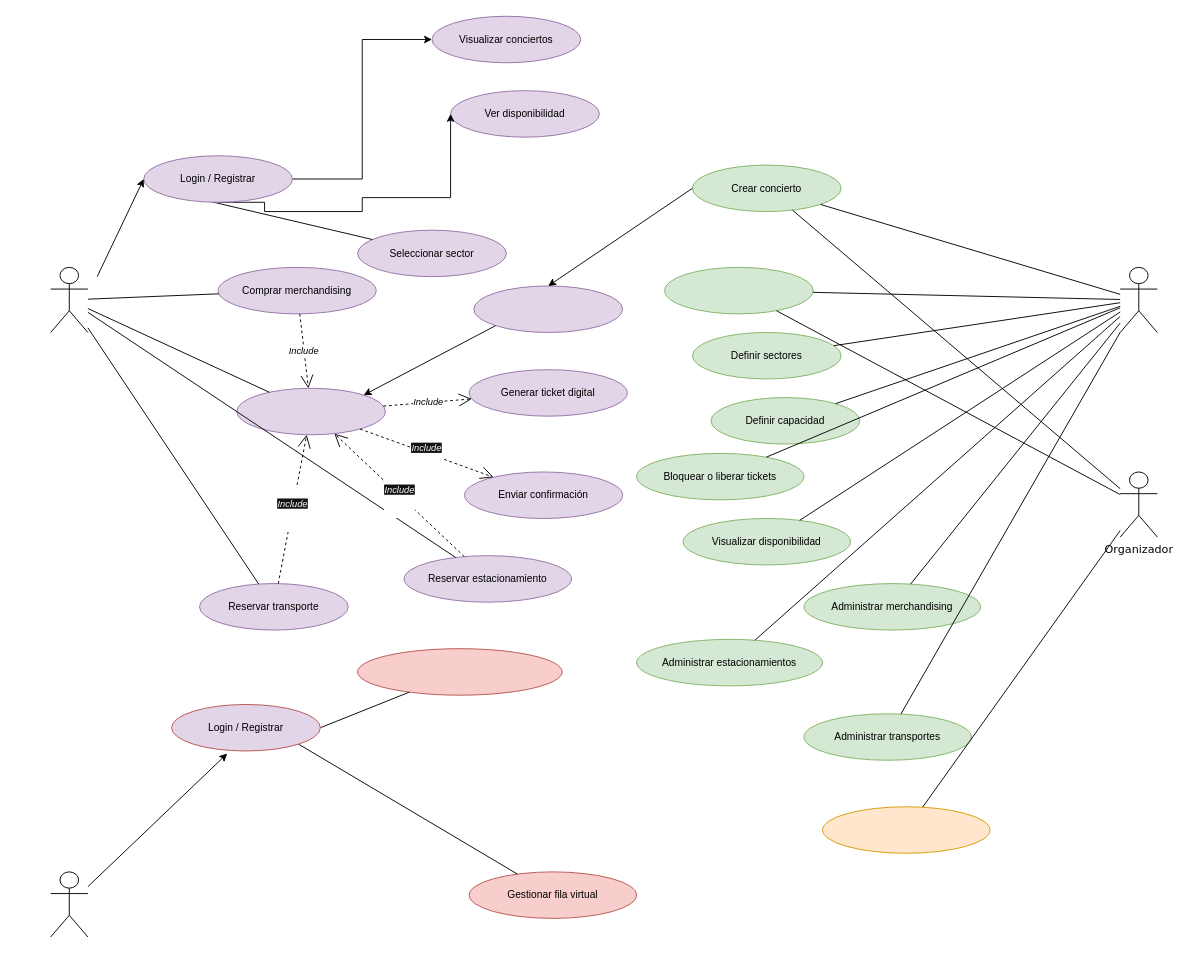
Image size: 1194x973. Some labels were removed from this diagram. Here are the shapes that lost their labels. From the top down, the centre of each, then its label:
At pixel 69 299: "Comprador".
At pixel 548 308: "obtener datos por concierto".
At pixel 738 290: "Modificar concierto".
At pixel 1138 299: "Administrador".
At pixel 310 411: "Comprar tickets".
At pixel 459 671: "Validar ticket (QR/código barras)".
At pixel 906 829: "Administrar info. evento".
At pixel 69 904: "Personal de acceso".
